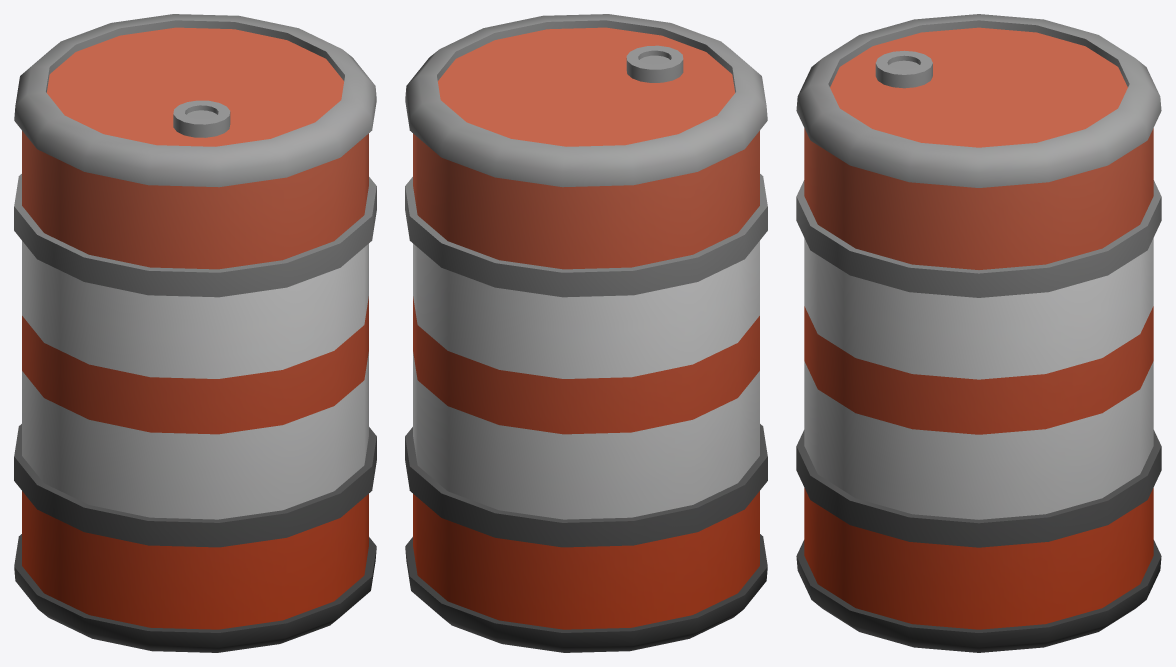
Rendered from Barrel01.fbx.
3 views of the same model, side by side, from view 1: azimuth 30°, elevation 25°; view 2: azimuth 150°, elevation 25°; view 3: azimuth 270°, elevation 25° (orthographic).
Visible parts, largest first — view 1: Barrel01; view 2: Barrel01; view 3: Barrel01.
Part boxes in pixels (<box>): Barrel01: <box>14,14,376,652</box>; Barrel01: <box>405,14,767,652</box>; Barrel01: <box>796,14,1161,652</box>.
Bounding box in the file's own units: 0.7604 × 0.7604 × 1.16.
